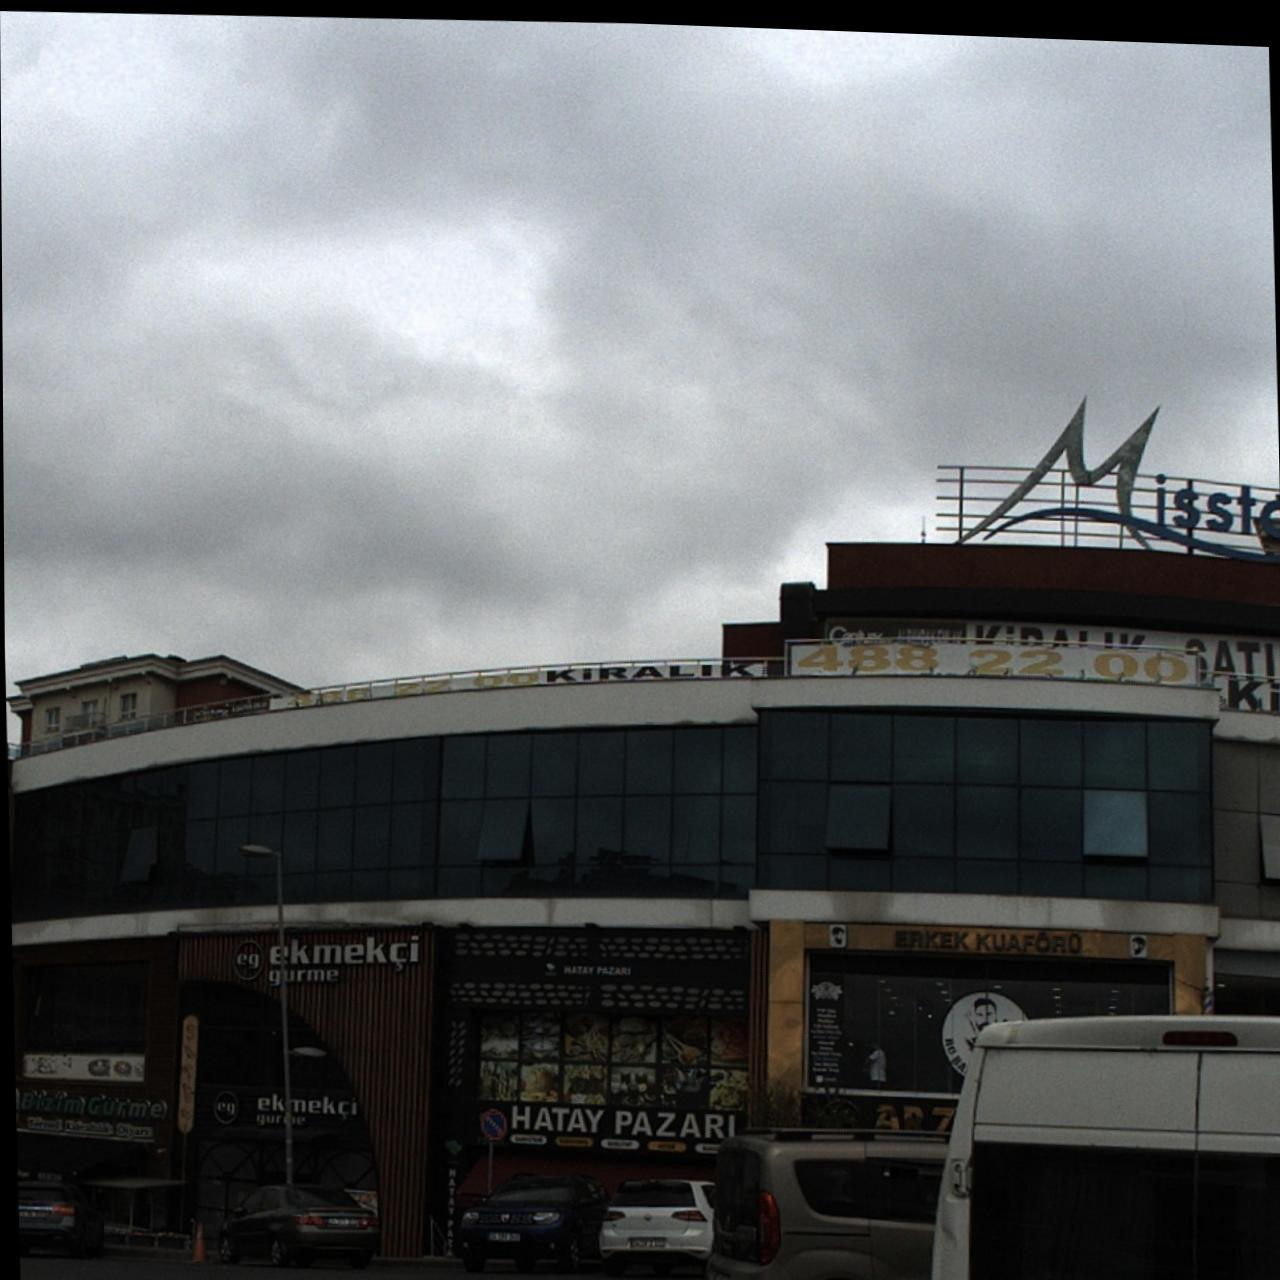SignStore: (802, 917, 1173, 951), (506, 1097, 745, 1149), (196, 1083, 370, 1146), (14, 1077, 171, 1143)
